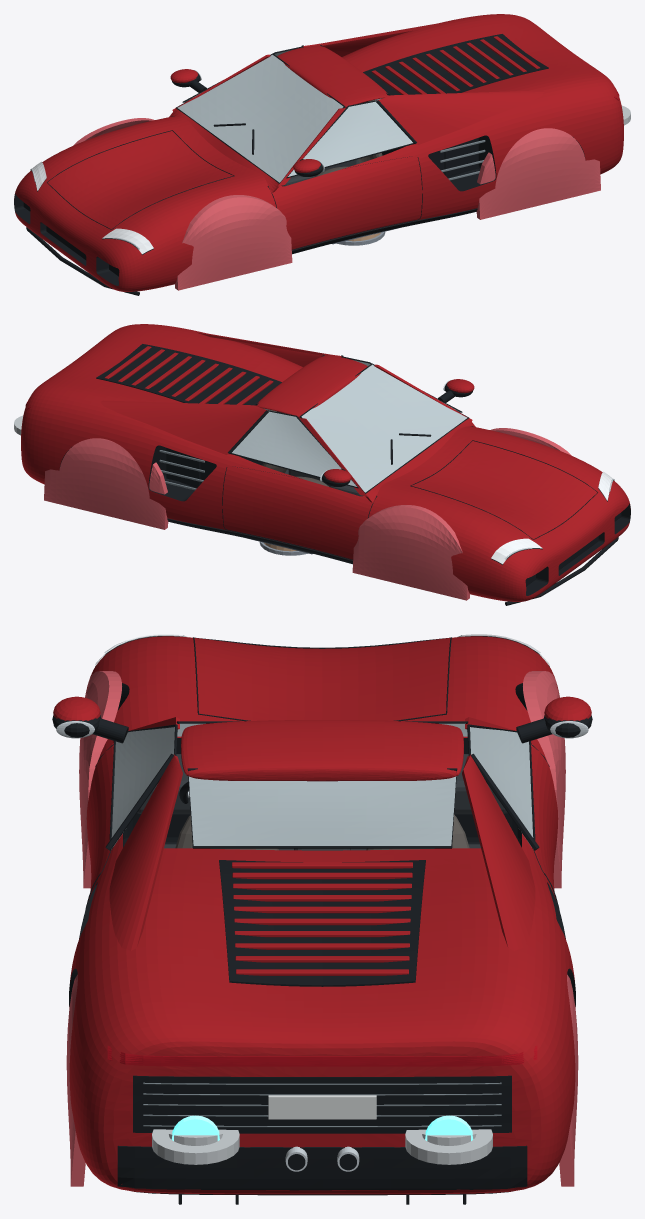
The model's file is CC0_Supercar_WHEELLESS_FLUSH_BODY.glb.
3 views of the same model, one above another, from view 1: azimuth 30°, elevation 25°; view 2: azimuth 150°, elevation 25°; view 3: azimuth 270°, elevation 25° (orthographic). The views are drawn at different scales.
Parts seen in each view (by area): view 1: Original_mid-engine_supercar_sculpted_body_shell_e26fbc, Raked_transparent_windscreen, Separate_closed_door_panel_205c6a, WHEELLESS_FRONT_STBD_CURVED_FULL_PANEL, WHEELLESS_REAR_STBD_CURVED_FULL_PANEL, Engine_cover_vent_recess, Flying_buttress_sail, Canopy_side_door_glass, Low_crowned_canopy_roof, Original_mid-engine_supercar_sculpted_body_shell_a77721, Flying_buttress_sail.001, Windscreen_base_cowl_panel (+7 smaller); view 2: Original_mid-engine_supercar_sculpted_body_shell_e26fbc, Raked_transparent_windscreen, Separate_closed_door_panel.001_f9c2d3, WHEELLESS_FRONT_PORT_CURVED_FULL_PANEL, WHEELLESS_REAR_PORT_CURVED_FULL_PANEL, Engine_cover_vent_recess, Flying_buttress_sail.001, Canopy_side_door_glass.001, Low_crowned_canopy_roof, Original_mid-engine_supercar_sculpted_body_shell_a77721, Flying_buttress_sail, Windscreen_base_cowl_panel (+7 smaller); view 3: Original_mid-engine_supercar_sculpted_body_shell_e26fbc, Rear_bulkhead_transparent_glass, Rear_engine-bay_grille, Low_crowned_canopy_roof, Rear_diffuser, Engine_cover_vent_recess, Flying_buttress_sail.001, Flying_buttress_sail, Full-width_tail_lamp_bar, Canopy_side_door_glass, Canopy_side_door_glass.001, WHEELLESS_FRONT_PORT_CURVED_FULL_PANEL (+26 smaller).
Boxes of the visible parts, x1,y1,x2,y2 form: Original_mid-engine_supercar_sculpted_body_shell_e26fbc: [14, 14, 623, 291]; Raked_transparent_windscreen: [177, 54, 343, 182]; Separate_closed_door_panel_205c6a: [268, 156, 422, 249]; WHEELLESS_FRONT_STBD_CURVED_FULL_PANEL: [174, 195, 292, 290]; WHEELLESS_REAR_STBD_CURVED_FULL_PANEL: [476, 128, 600, 219]; Engine_cover_vent_recess: [363, 34, 548, 95]; Flying_buttress_sail: [377, 90, 544, 144]; Canopy_side_door_glass: [288, 101, 412, 176]; Low_crowned_canopy_roof: [277, 45, 388, 107]; Original_mid-engine_supercar_sculpted_body_shell_a77721: [14, 101, 584, 285]; Flying_buttress_sail.001: [303, 22, 448, 56]; Windscreen_base_cowl_panel: [169, 108, 279, 192]; Original_mid-engine_supercar_sculpted_body_shell_e26fbc: [21, 324, 630, 601]; Raked_transparent_windscreen: [301, 364, 467, 492]; Separate_closed_door_panel.001_f9c2d3: [222, 466, 376, 559]; WHEELLESS_FRONT_PORT_CURVED_FULL_PANEL: [352, 505, 470, 600]; WHEELLESS_REAR_PORT_CURVED_FULL_PANEL: [44, 438, 168, 529]; Engine_cover_vent_recess: [96, 344, 281, 405]; Flying_buttress_sail.001: [100, 400, 267, 454]; Canopy_side_door_glass.001: [232, 411, 356, 486]; Low_crowned_canopy_roof: [256, 355, 367, 417]; Original_mid-engine_supercar_sculpted_body_shell_a77721: [60, 411, 630, 595]; Flying_buttress_sail: [196, 332, 341, 366]; Windscreen_base_cowl_panel: [365, 418, 475, 502]; Original_mid-engine_supercar_sculpted_body_shell_e26fbc: [69, 636, 575, 1194]; Rear_bulkhead_transparent_glass: [189, 776, 456, 845]; Rear_engine-bay_grille: [133, 1075, 511, 1133]; Low_crowned_canopy_roof: [181, 720, 463, 781]; Rear_diffuser: [117, 1145, 527, 1195]; Engine_cover_vent_recess: [219, 860, 425, 986]; Flying_buttress_sail.001: [462, 754, 535, 950]; Flying_buttress_sail: [109, 754, 182, 950]; Full-width_tail_lamp_bar: [107, 1045, 537, 1066]; Canopy_side_door_glass: [111, 727, 174, 846]; Canopy_side_door_glass.001: [470, 727, 533, 846]; WHEELLESS_FRONT_PORT_CURVED_FULL_PANEL: [523, 671, 565, 888].
Bounding box in the file's own units: 4.8 × 1.13 × 2.09.
Materials: 16 (10 with a texture image).
